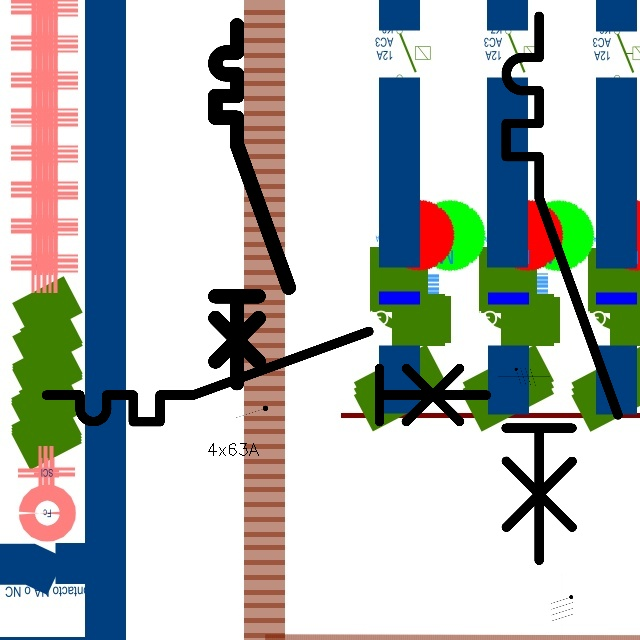interruptor_termomagnetico: (492, 2, 632, 574), (35, 320, 498, 433), (206, 16, 298, 392)
